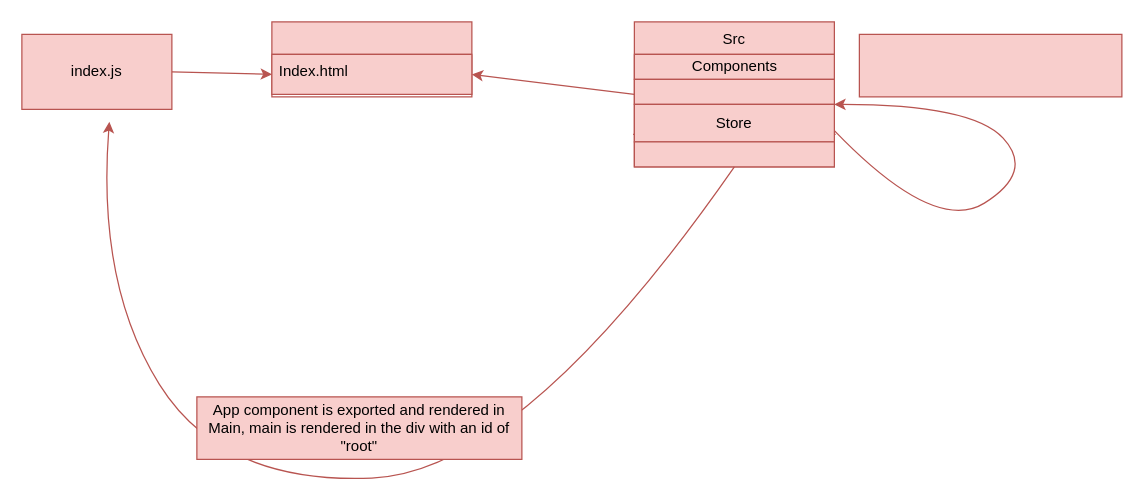
The diagram is 1144 pixels wide and 501 high, and some of its shapes have lost their labels. Here are the shapes that lost their labels. From the top down, the centre of each, then its label:
At (x=990, y=65): "rendered in app, app is exported to be rendered in main".
At (x=733, y=91): "app.js".
At (x=733, y=154): "stuff.store.js".
